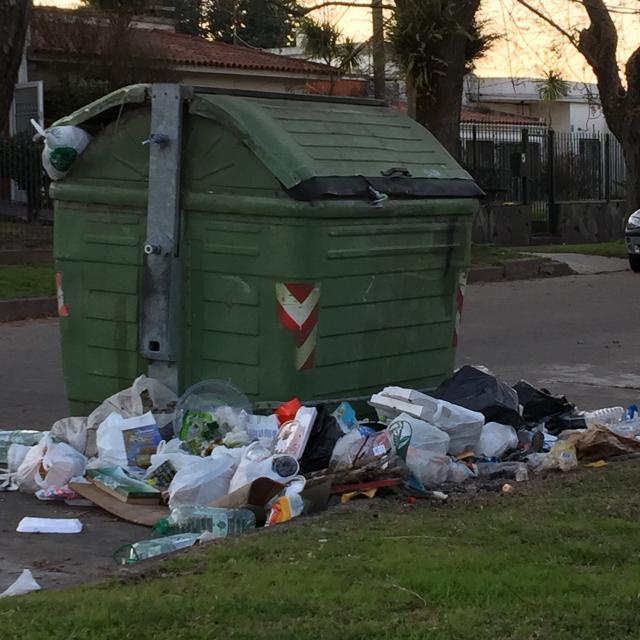garbage: (0, 364, 640, 532), (112, 504, 262, 570), (15, 117, 103, 183), (0, 563, 51, 610)
